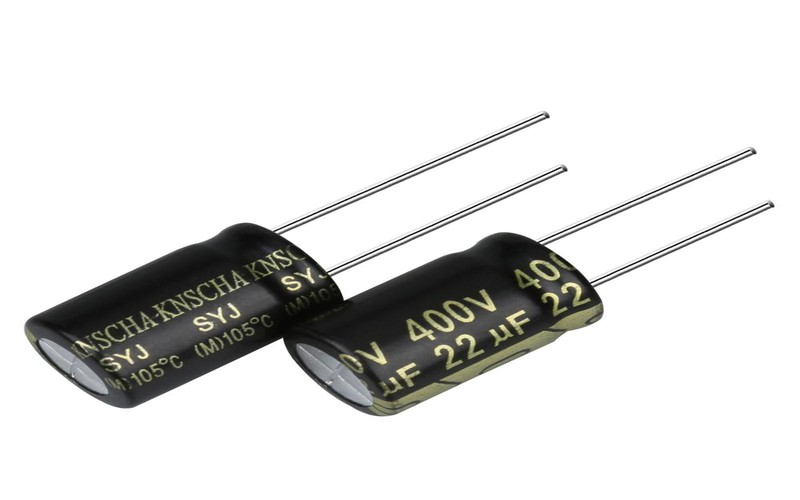Capacitor: (22, 86, 800, 444)
